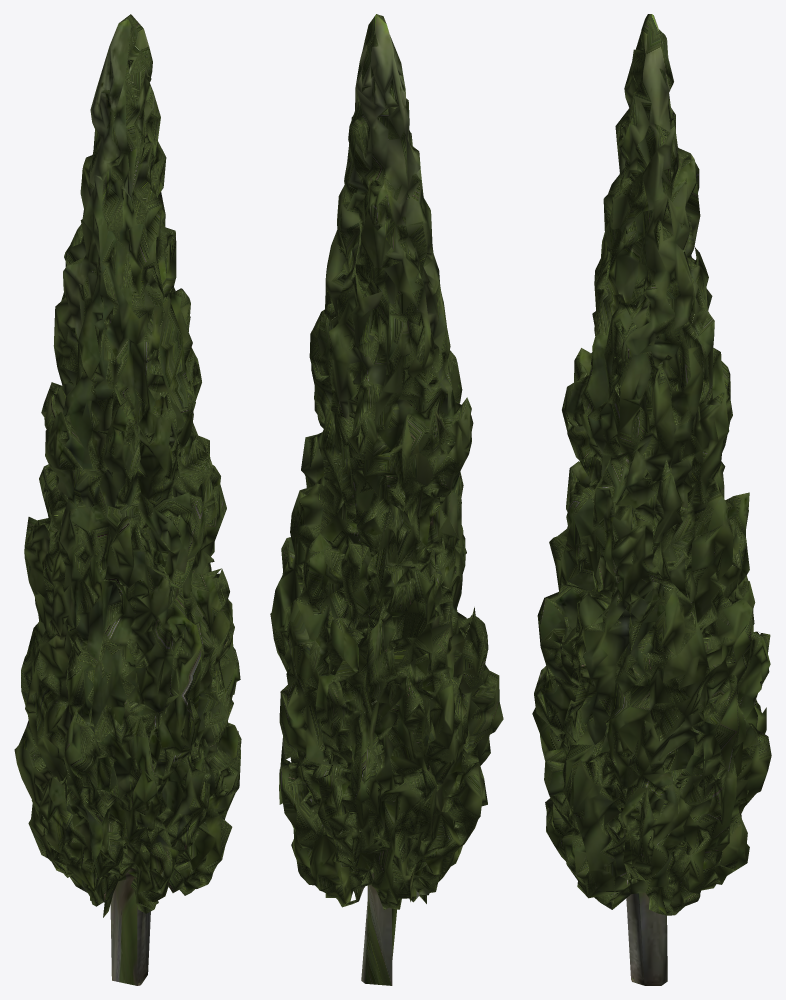
File: lib_tp_bachy.near.glb
3 views of the same model, side by side, from view 1: azimuth 30°, elevation 25°; view 2: azimuth 150°, elevation 25°; view 3: azimuth 270°, elevation 25° (orthographic).
Bounding box in the file's own units: 0.4109 × 1.98 × 0.4448.
Materials: 1 (1 with a texture image).
